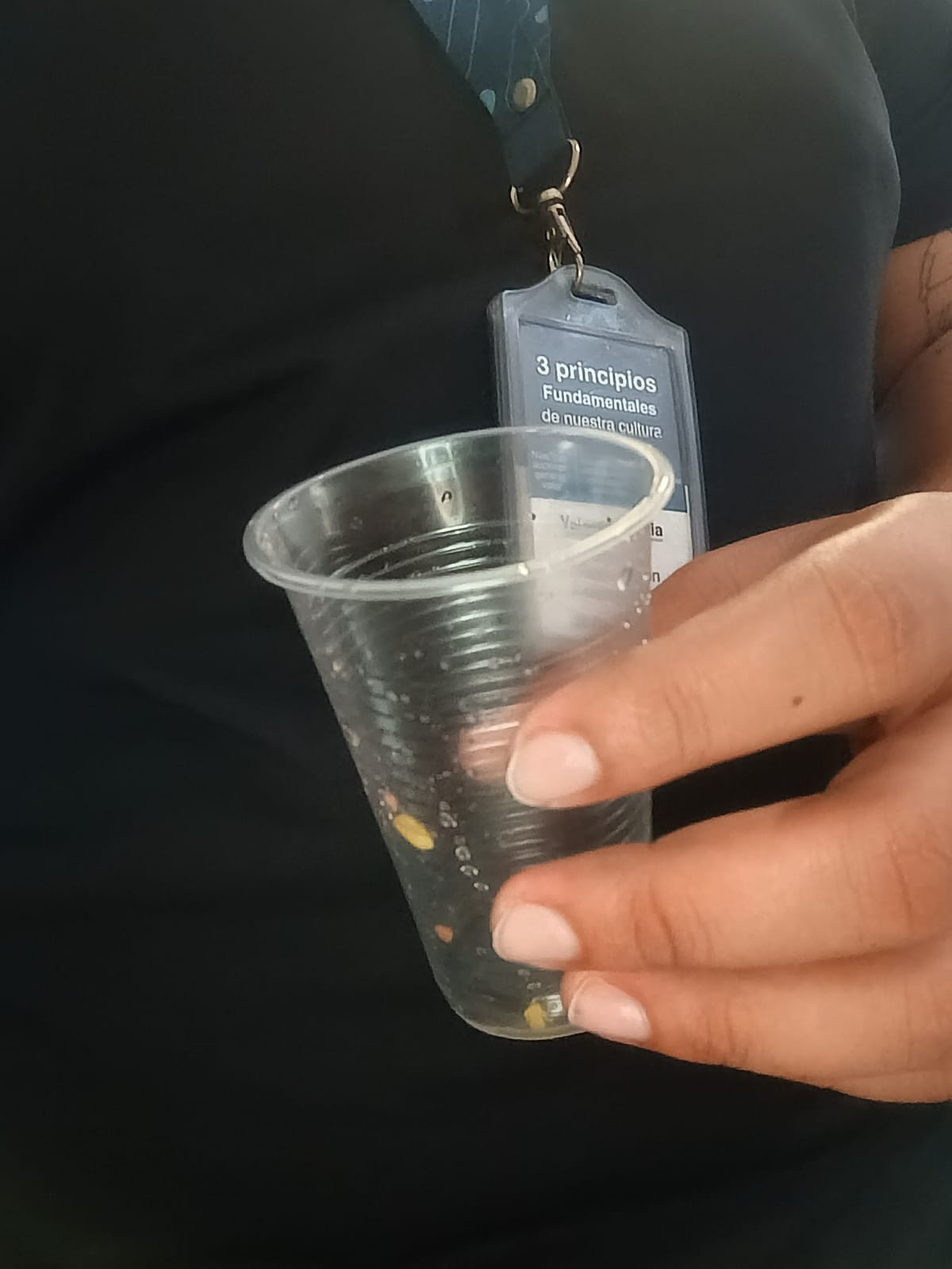Plastico: (243, 427, 674, 1042)
